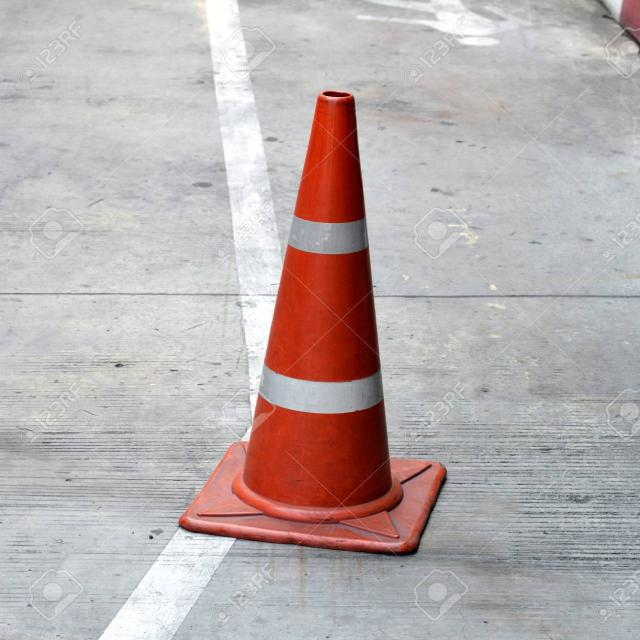Traffic Cone: (150, 41, 501, 591)
